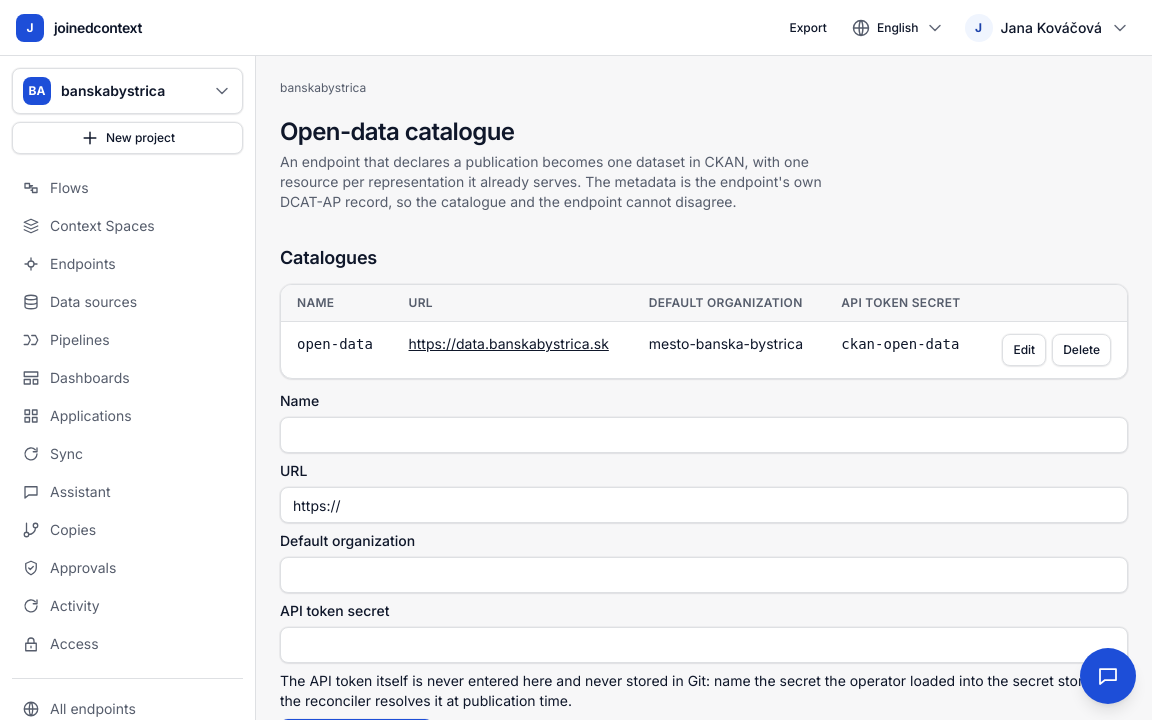
Test: ckan publishing manager › proposes a catalogue as a change and never sends a credential (CC-03, MF-24)
Type "open-data-2" into the field labelled "Name". click: (704, 435)
box: [280,417,1128,453]
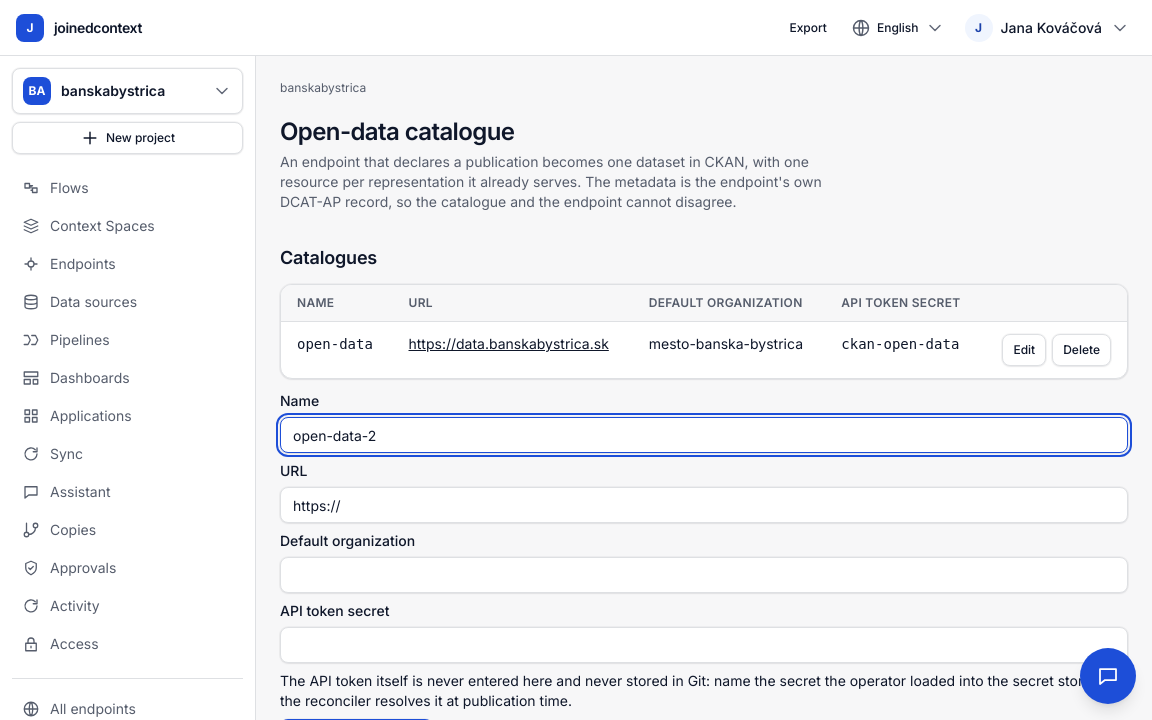
Replace the text in the field labelled "URL" with "https://data.example.org". click: (704, 505)
box: [280,487,1128,523]
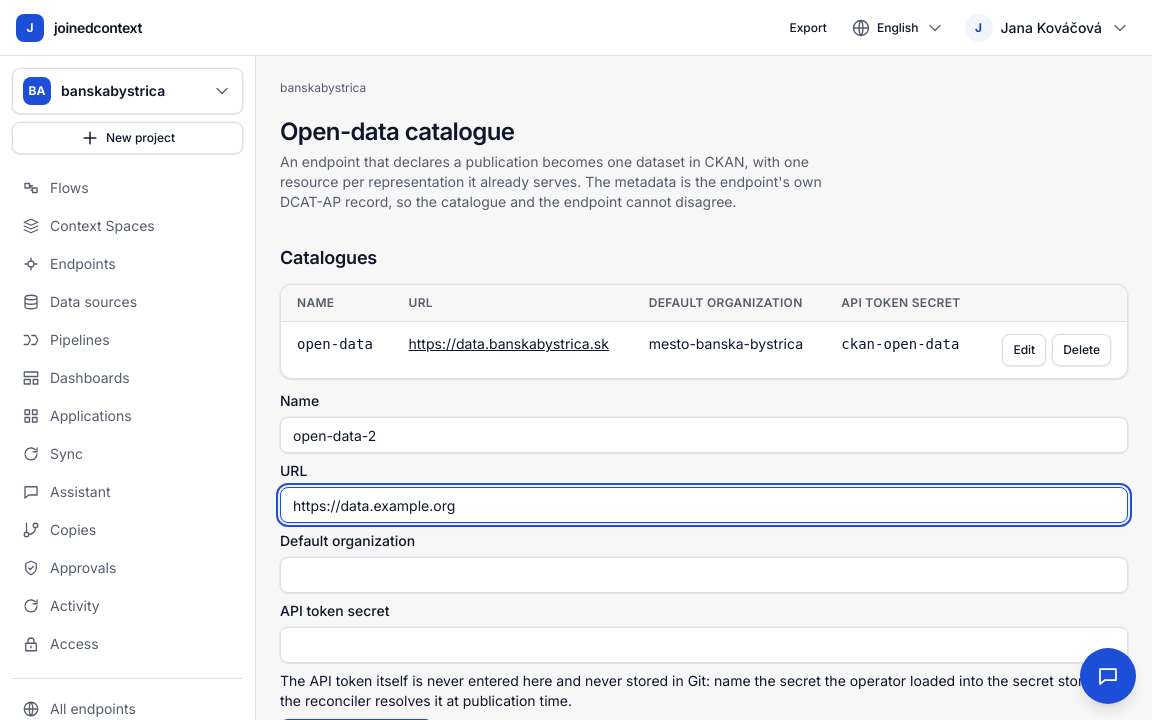
Type "mesto" into the field labelled "Default organization". click: (704, 575)
box: [280,557,1128,593]
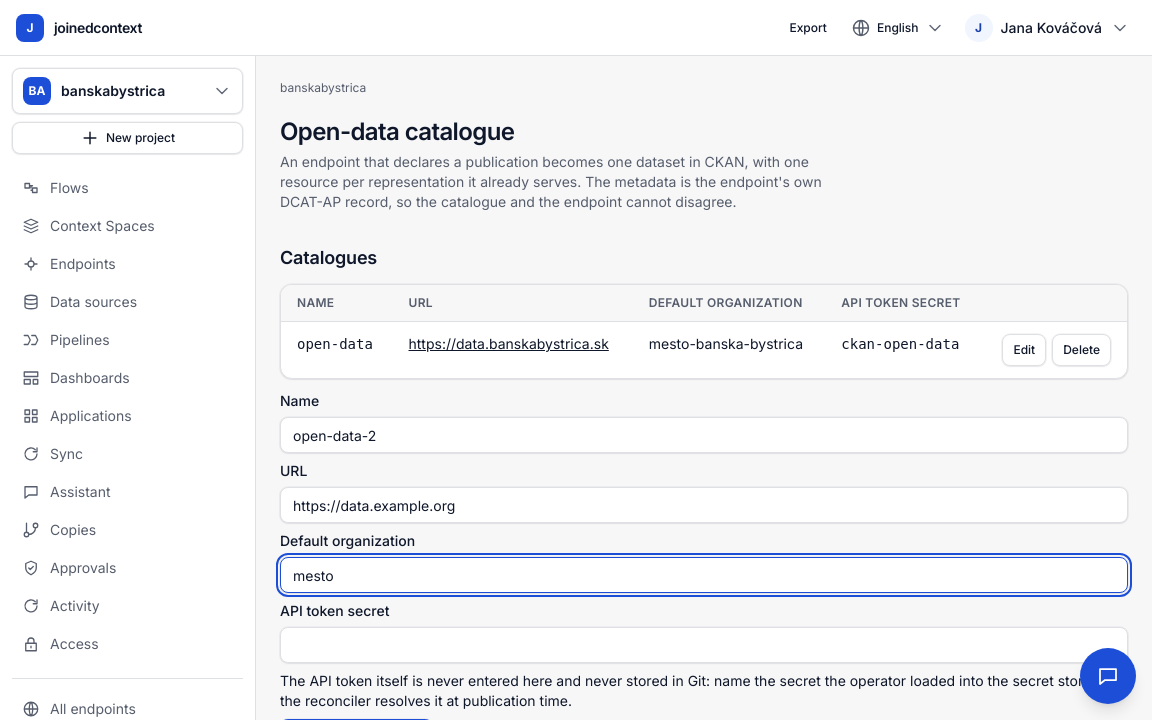
Type "ckan-second" into the field labelled "API token secret". click: (704, 645)
box: [280,627,1128,663]
(page scrolled)
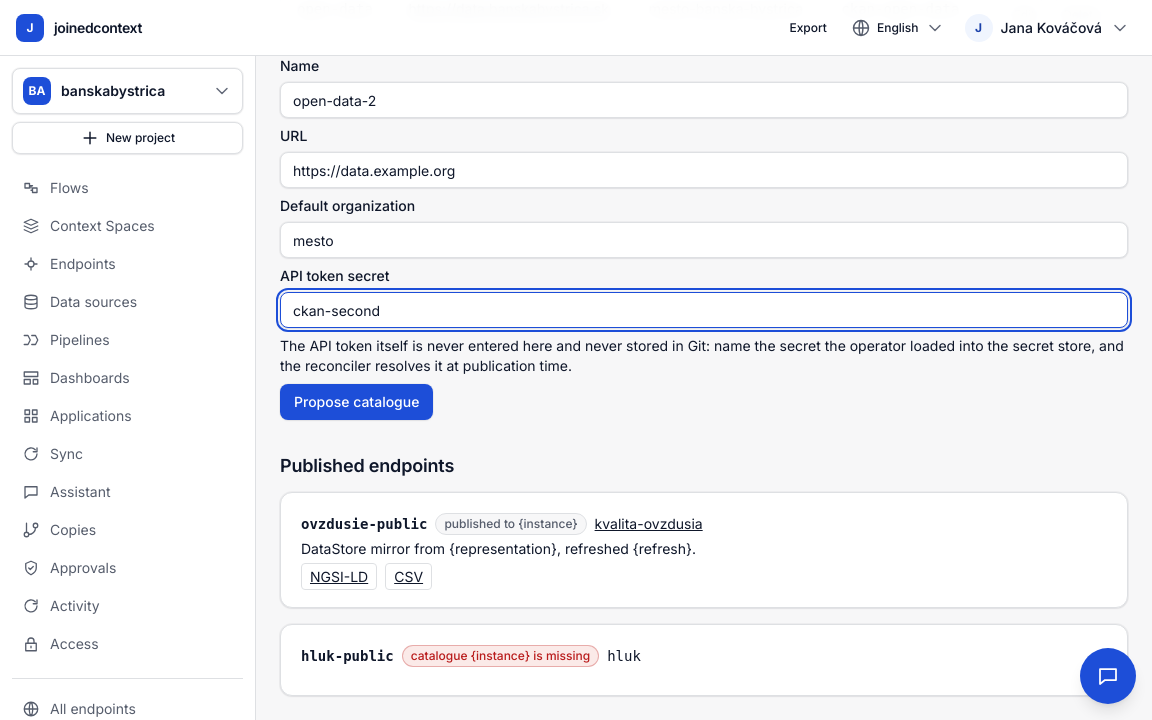
Click the button "Propose catalogue". click: (357, 402)
box: [280,384,434,420]
(page scrolled)
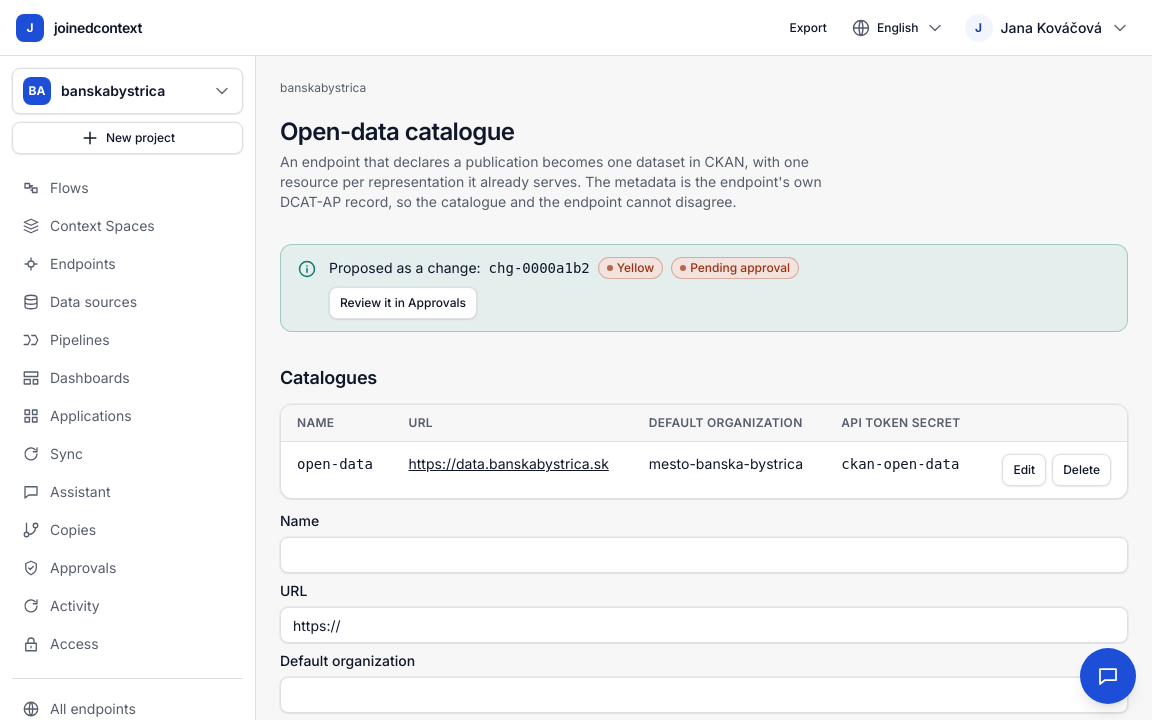
expect the text "chg-0000a1b2" is shown: met, box [489,258,590,278]
